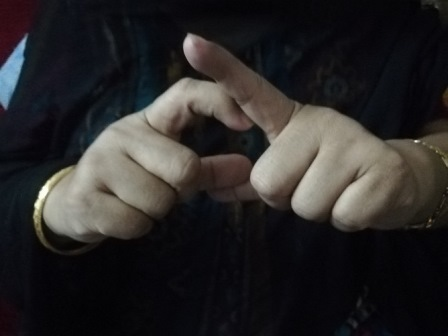kh: (105, 36, 376, 226)
